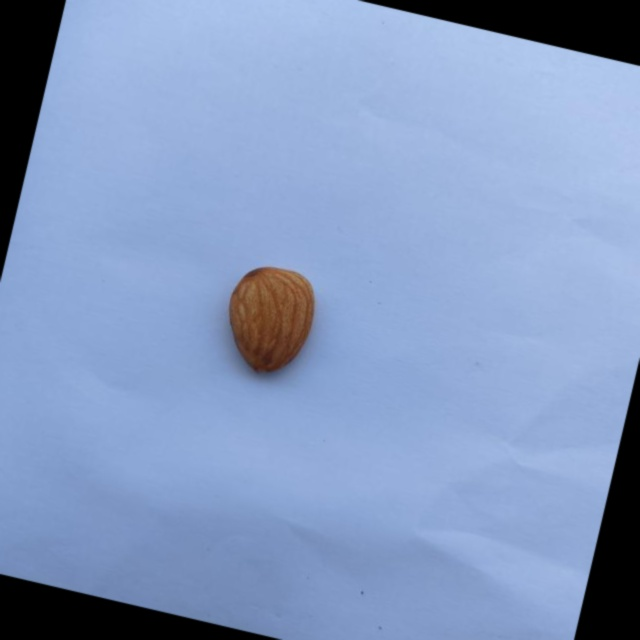grade1: (208, 251, 334, 392)
